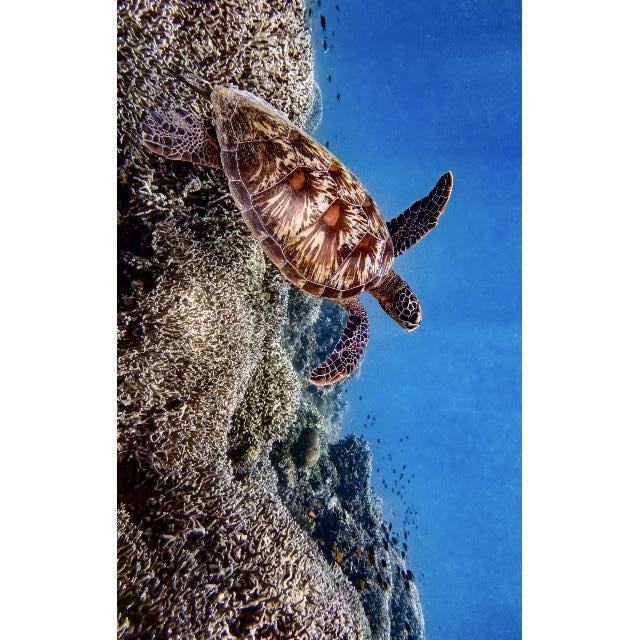turtle: (140, 70, 453, 388)
